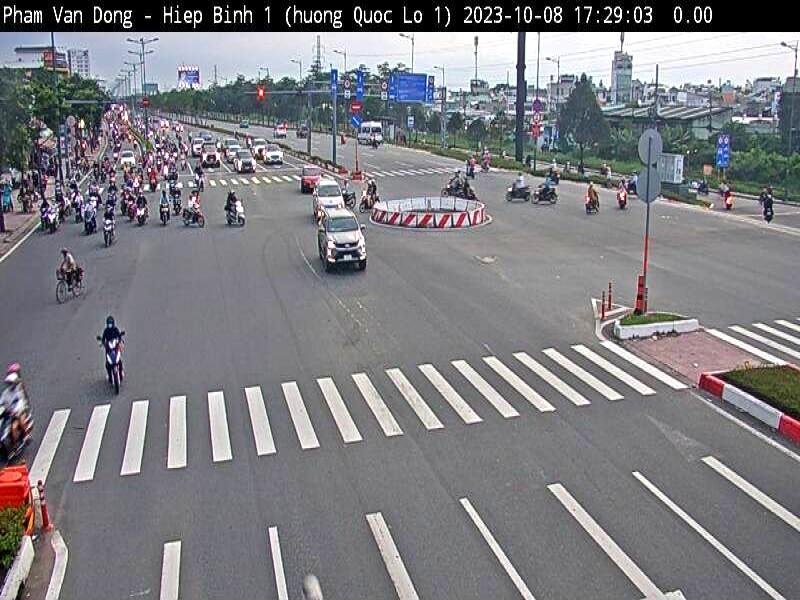bus: (357, 118, 385, 145)
car: (317, 213, 374, 271), (312, 182, 344, 221), (300, 163, 324, 194), (200, 142, 222, 171), (235, 149, 256, 177), (262, 143, 286, 166)
motorcycle: (0, 405, 36, 462), (100, 338, 128, 395), (181, 208, 208, 230), (503, 186, 535, 202), (532, 190, 564, 204), (227, 206, 248, 227), (360, 192, 380, 214), (103, 219, 117, 246), (134, 203, 148, 225), (584, 197, 606, 210), (84, 211, 98, 228), (160, 204, 171, 222), (48, 212, 58, 231)
